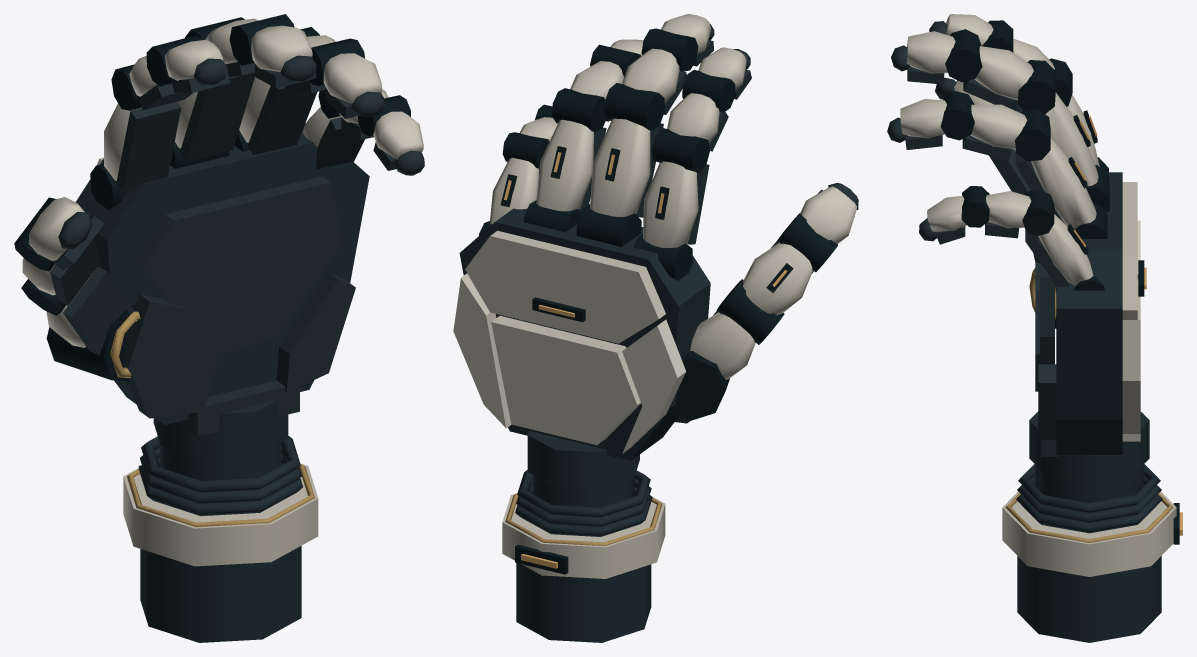
File: aurel01_biped_d0_lod2.glb
3 views of the same model, side by side, from view 1: azimuth 30°, elevation 25°; view 2: azimuth 150°, elevation 25°; view 3: azimuth 270°, elevation 25° (orthographic). The views are drawn at different scales.
Visible parts, largest first — view 1: AUREL_DISTANCE_GEOMETRY; view 2: AUREL_DISTANCE_GEOMETRY; view 3: AUREL_DISTANCE_GEOMETRY.
Boxes of the visible parts, x1,y1,x2,y2 form: AUREL_DISTANCE_GEOMETRY: [14, 14, 424, 642]; AUREL_DISTANCE_GEOMETRY: [453, 14, 858, 642]; AUREL_DISTANCE_GEOMETRY: [887, 14, 1182, 642].
Size of the model in its own units: 0.1274 by 0.2066 by 0.0983.
